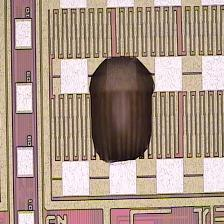PO CONTAMINATION: (88, 53, 162, 167)
